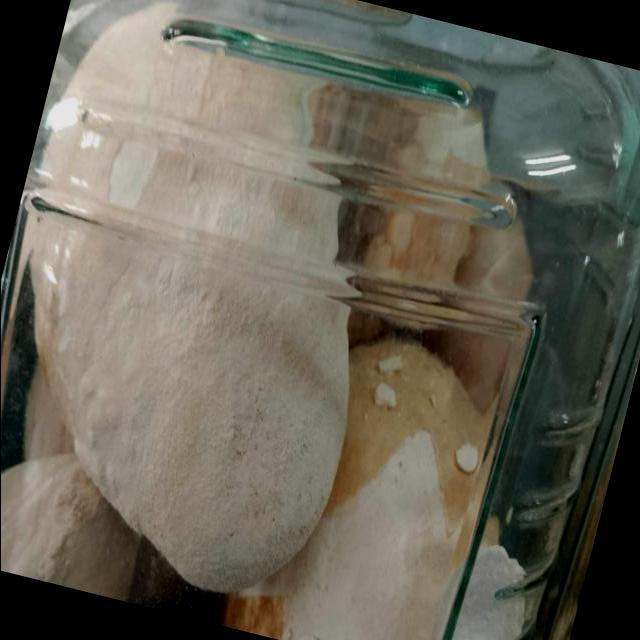General: (3, 1, 639, 637)
Sharps: (66, 96, 519, 230), (162, 17, 474, 109)
